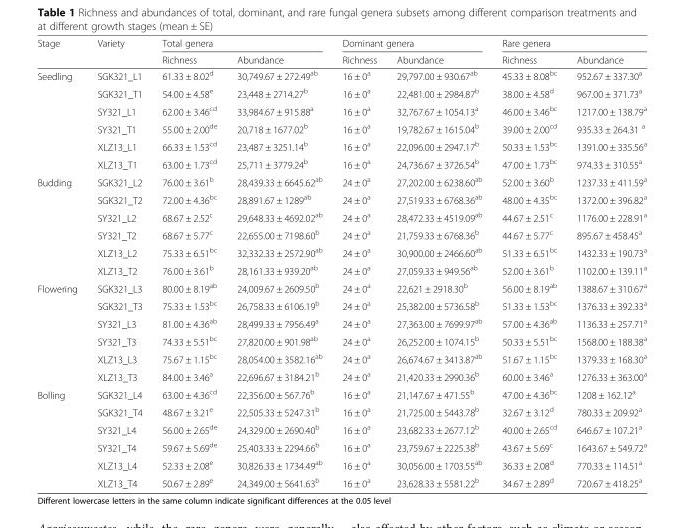table: (36, 37, 646, 488)
table column: (226, 37, 331, 488), (386, 37, 491, 488), (566, 37, 646, 488), (151, 37, 226, 488), (491, 37, 566, 488), (86, 37, 151, 488), (331, 37, 386, 488), (36, 37, 86, 488)
table column header: (36, 37, 646, 66)
table row: (36, 83, 646, 101), (36, 101, 646, 119), (36, 119, 646, 137), (36, 154, 646, 172), (36, 172, 646, 190), (36, 207, 646, 225), (36, 225, 646, 243), (36, 260, 646, 278), (36, 278, 646, 296), (36, 296, 646, 314), (36, 331, 646, 349), (36, 349, 646, 367), (36, 384, 646, 402), (36, 402, 646, 420), (36, 420, 646, 438), (36, 455, 646, 473), (36, 66, 646, 83), (36, 137, 646, 154), (36, 190, 646, 207), (36, 243, 646, 260), (36, 314, 646, 331), (36, 367, 646, 384), (36, 438, 646, 455), (36, 50, 646, 66), (36, 473, 646, 488), (36, 37, 646, 50)
table spanning cell: (36, 66, 86, 172), (36, 172, 86, 278), (36, 278, 86, 384), (36, 384, 86, 488), (151, 37, 331, 50), (331, 37, 491, 50), (491, 37, 646, 50), (86, 37, 151, 66), (36, 37, 86, 66)
